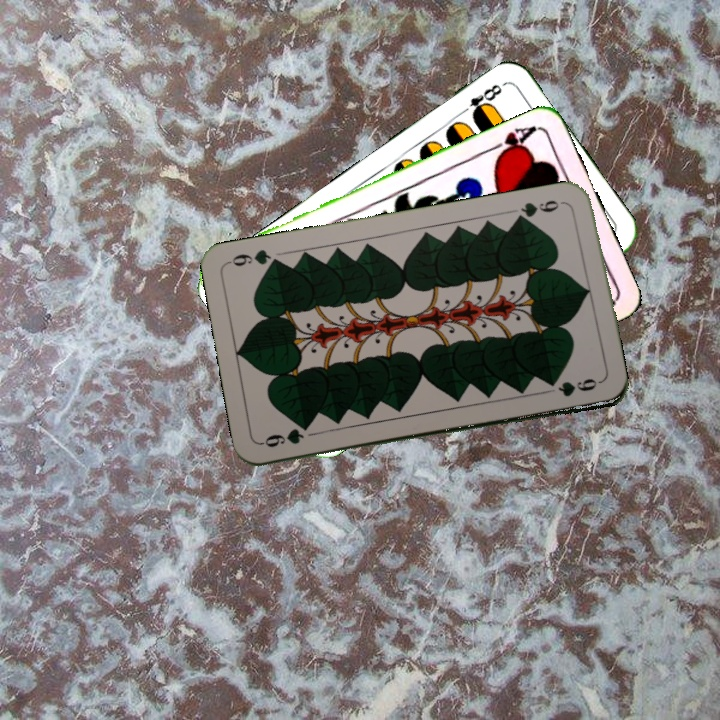E8: (456, 79, 508, 121)
G9: (512, 196, 570, 223), (257, 425, 306, 450)
HA: (485, 121, 541, 163)
